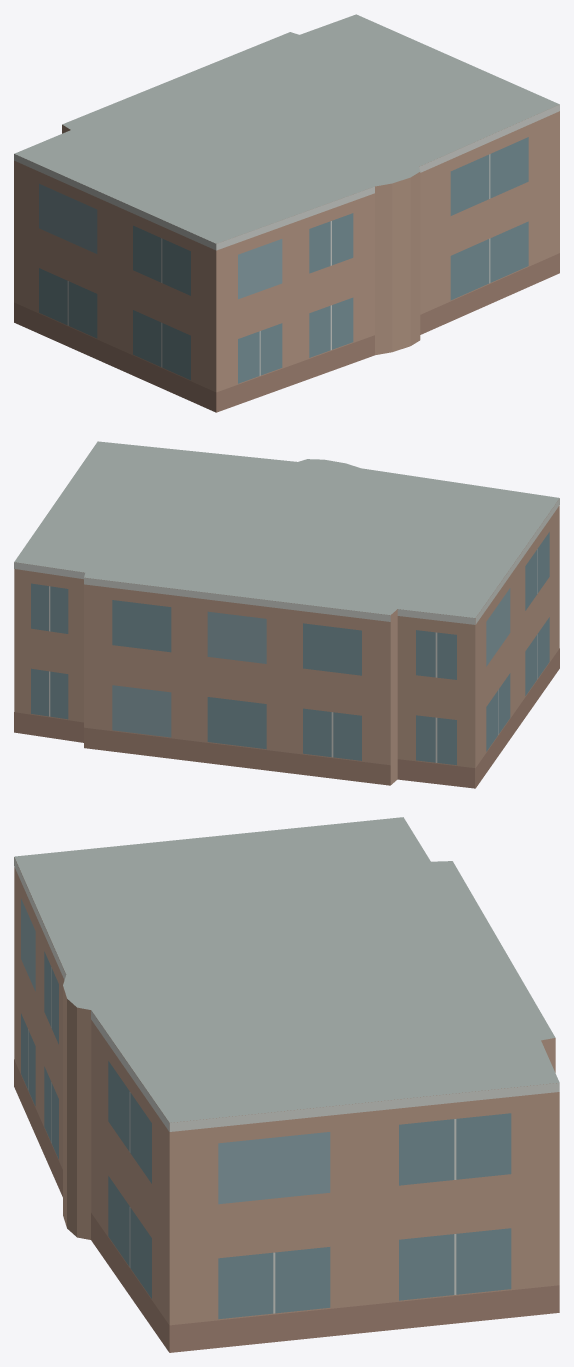
The model's file is survey-upis-32615438.glb.
3 views of the same model, one above another, from view 1: azimuth 30°, elevation 25°; view 2: azimuth 150°, elevation 25°; view 3: azimuth 270°, elevation 25° (orthographic). The views are drawn at different scales.
Parts seen in each view (by area): view 1: survey-upis-32615438.tmp; view 2: survey-upis-32615438.tmp; view 3: survey-upis-32615438.tmp.
Boxes of the visible parts, <box> form: survey-upis-32615438.tmp: <box>14,14,559,412</box>; survey-upis-32615438.tmp: <box>14,441,559,788</box>; survey-upis-32615438.tmp: <box>14,817,559,1352</box>.
Size of the model in its own units: 17.41 by 6.1 by 13.13.
